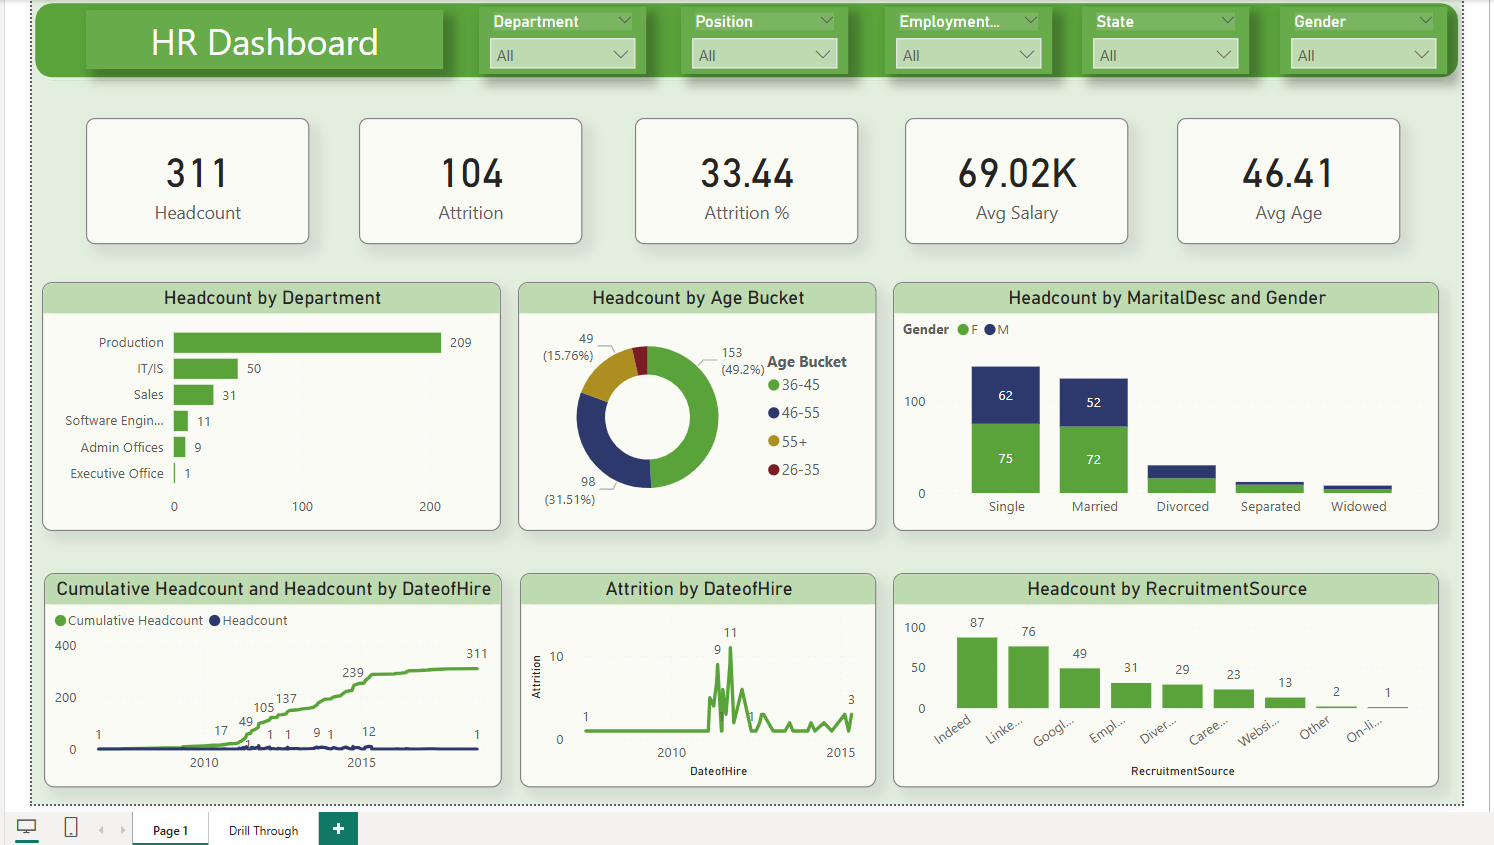

The dashboard page shown, as its layout file describes it:
{"tool":"powerbi","page":{"name":"Page 1","canvas":[1280,720],"ordinal":0},"visuals":[{"type":"shape","box":[0,0,1280,72.3],"z":0},{"type":"card","fields":{"Values":["Measure.Attrition"]},"box":[293.2,105.3,200.3,112.5],"z":1000},{"type":"card","fields":{"Values":["Measure.Headcount"]},"box":[48.5,105.3,200.3,112.5],"z":2000},{"type":"card","fields":{"Values":["Measure.Attrition %"]},"box":[539.9,105.3,200.3,112.5],"z":3000},{"type":"card","fields":{"Values":["Measure.Avg Salary"]},"box":[781.4,105.3,200.3,112.5],"z":4000},{"type":"card","fields":{"Values":["Measure.Avg Age"]},"box":[1025,105.3,200.3,112.5],"z":5000},{"type":"clusteredBarChart","fields":{"Y":["Measure.Headcount"],"Category":["Sheet1.Department"]},"box":[9.3,252.9,410.8,223],"z":6000},{"type":"donutChart","fields":{"Category":["Sheet1.Age Bucket"],"Y":["Measure.Headcount"]},"box":[435.1,252.9,321,223],"z":7000},{"type":"columnChart","fields":{"Category":["Sheet1.MaritalDesc"],"Y":["Measure.Headcount"],"Series":["Sheet1.Gender"]},"box":[771.1,252.9,489.3,223],"z":8000},{"type":"lineChart","fields":{"Category":["Sheet1.DateofHire"],"Y":["Measure.Cumulative Headcount","Measure.Headcount"]},"box":[10.3,513,409.8,192],"z":9000},{"type":"lineChart","fields":{"Y":["Measure.Attrition"],"Category":["Sheet1.DateofHire"]},"box":[436.6,513,319,192],"z":10000},{"type":"columnChart","fields":{"Y":["Measure.Headcount"],"Category":["Sheet1.RecruitmentSource"]},"box":[771.1,513,489.3,192],"z":11000},{"type":"slicer","fields":{"Values":["Sheet1.Department"]},"box":[400.5,6.2,149.7,59.9],"z":12000},{"type":"slicer","fields":{"Values":["Sheet1.Position"]},"box":[581.2,6.2,149.7,59.9],"z":13000},{"type":"slicer","fields":{"Values":["Sheet1.EmploymentStatus"]},"box":[763.9,6.2,149.7,59.9],"z":14000},{"type":"slicer","fields":{"Values":["Sheet1.Gender"]},"box":[1117.9,6.2,149.7,59.9],"z":15000},{"type":"slicer","fields":{"Values":["Sheet1.State"]},"box":[940.4,6.2,149.7,59.9],"z":16000},{"type":"textbox","box":[48.5,9.3,320,52.6],"z":17000}]}

Visuals, with their boxes on the page's 1280x720 design canvas (x1, y1, x2, y2). These are canvas units, not pixel positions in the 1494x845 screenshot, which may show the page scaled, cropped or inside an application window:
shape: <bbox>0, 0, 1280, 72</bbox>
card - Measure.Attrition: <bbox>293, 105, 494, 218</bbox>
card - Measure.Headcount: <bbox>48, 105, 249, 218</bbox>
card - Measure.Attrition %: <bbox>540, 105, 740, 218</bbox>
card - Measure.Avg Salary: <bbox>781, 105, 982, 218</bbox>
card - Measure.Avg Age: <bbox>1025, 105, 1225, 218</bbox>
clusteredBarChart - Measure.Headcount x Sheet1.Department: <bbox>9, 253, 420, 476</bbox>
donutChart - Sheet1.Age Bucket x Measure.Headcount: <bbox>435, 253, 756, 476</bbox>
columnChart - Sheet1.MaritalDesc x Measure.Headcount: <bbox>771, 253, 1260, 476</bbox>
lineChart - Sheet1.DateofHire x Measure.Cumulative Headcount: <bbox>10, 513, 420, 705</bbox>
lineChart - Measure.Attrition x Sheet1.DateofHire: <bbox>437, 513, 756, 705</bbox>
columnChart - Measure.Headcount x Sheet1.RecruitmentSource: <bbox>771, 513, 1260, 705</bbox>
slicer - Sheet1.Department: <bbox>400, 6, 550, 66</bbox>
slicer - Sheet1.Position: <bbox>581, 6, 731, 66</bbox>
slicer - Sheet1.EmploymentStatus: <bbox>764, 6, 914, 66</bbox>
slicer - Sheet1.Gender: <bbox>1118, 6, 1268, 66</bbox>
slicer - Sheet1.State: <bbox>940, 6, 1090, 66</bbox>
textbox: <bbox>48, 9, 368, 62</bbox>
